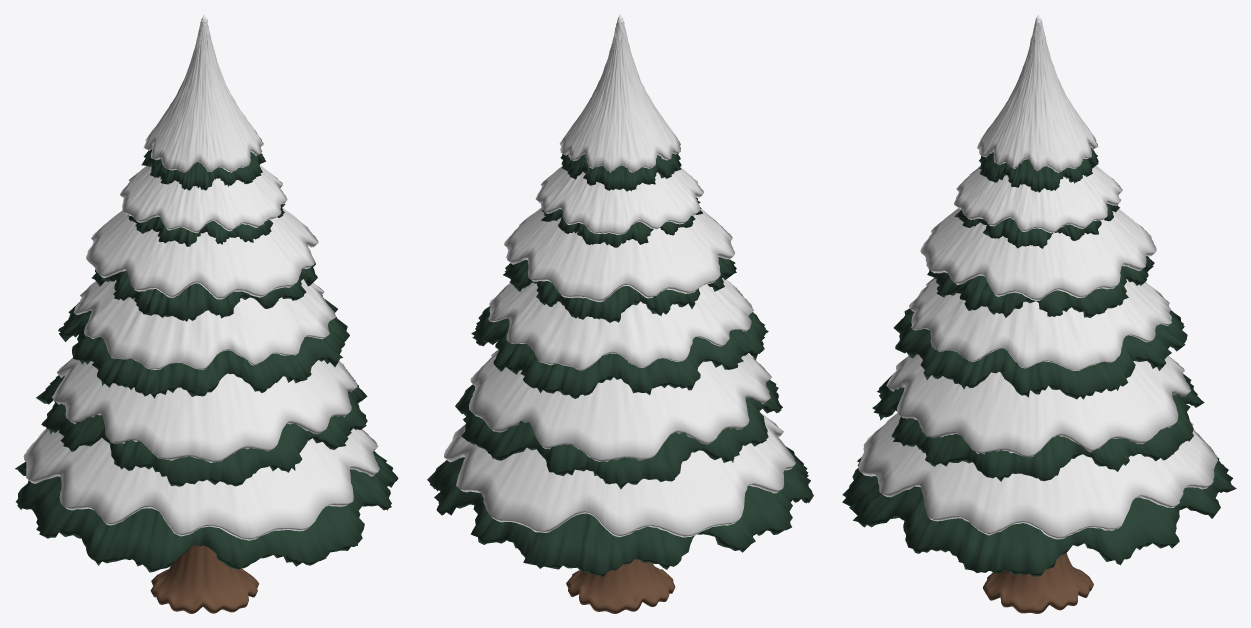
Rendered from pine.glb.
3 views of the same model, side by side, from view 1: azimuth 30°, elevation 25°; view 2: azimuth 150°, elevation 25°; view 3: azimuth 270°, elevation 25° (orthographic).
Parts seen in each view (by area): view 1: Cylinder.007, Cylinder.008, Cylinder, Cylinder.009, Cylinder.010, Cylinder.013, Cylinder.001, Cylinder.002, Cylinder.011, Cylinder.006, Cylinder.003, Cylinder.005 (+1 smaller); view 2: Cylinder.007, Cylinder.008, Cylinder, Cylinder.009, Cylinder.010, Cylinder.013, Cylinder.002, Cylinder.001, Cylinder.011, Cylinder.003, Cylinder.006, Cylinder.005 (+1 smaller); view 3: Cylinder.007, Cylinder.008, Cylinder, Cylinder.009, Cylinder.010, Cylinder.002, Cylinder.013, Cylinder.001, Cylinder.011, Cylinder.003, Cylinder.006, Cylinder.005 (+1 smaller).
Boxes of the visible parts, x1,y1,x2,y2 form: Cylinder.007: (23,428,379,540); Cylinder.008: (52,358,357,462); Cylinder: (15,451,398,572); Cylinder.009: (74,279,335,369); Cylinder.010: (86,207,318,299); Cylinder.013: (143,14,263,172); Cylinder.001: (36,375,367,486); Cylinder.002: (58,294,349,398); Cylinder.011: (120,165,287,233); Cylinder.006: (150,545,258,613); Cylinder.003: (91,261,317,321); Cylinder.005: (141,149,265,190); Cylinder.007: (444,412,795,537); Cylinder.008: (469,349,771,461); Cylinder: (427,446,813,577); Cylinder.009: (488,278,753,370); Cylinder.010: (504,207,734,301); Cylinder.013: (559,14,680,172); Cylinder.002: (471,306,768,398); Cylinder.001: (455,380,782,489); Cylinder.011: (535,166,703,234); Cylinder.003: (503,257,736,322); Cylinder.006: (566,559,675,613); Cylinder.005: (560,153,681,191); Cylinder.007: (858,413,1217,539); Cylinder.008: (886,354,1191,457); Cylinder: (842,457,1236,576); Cylinder.009: (909,278,1171,370); Cylinder.010: (920,208,1156,300); Cylinder.002: (894,308,1187,399); Cylinder.013: (977,14,1098,172); Cylinder.001: (872,373,1204,481); Cylinder.011: (954,165,1122,233); Cylinder.003: (927,256,1154,317); Cylinder.006: (983,553,1093,613); Cylinder.005: (979,148,1098,192).
Size of the model in its own units: 23.12 by 37.9 by 23.45.
